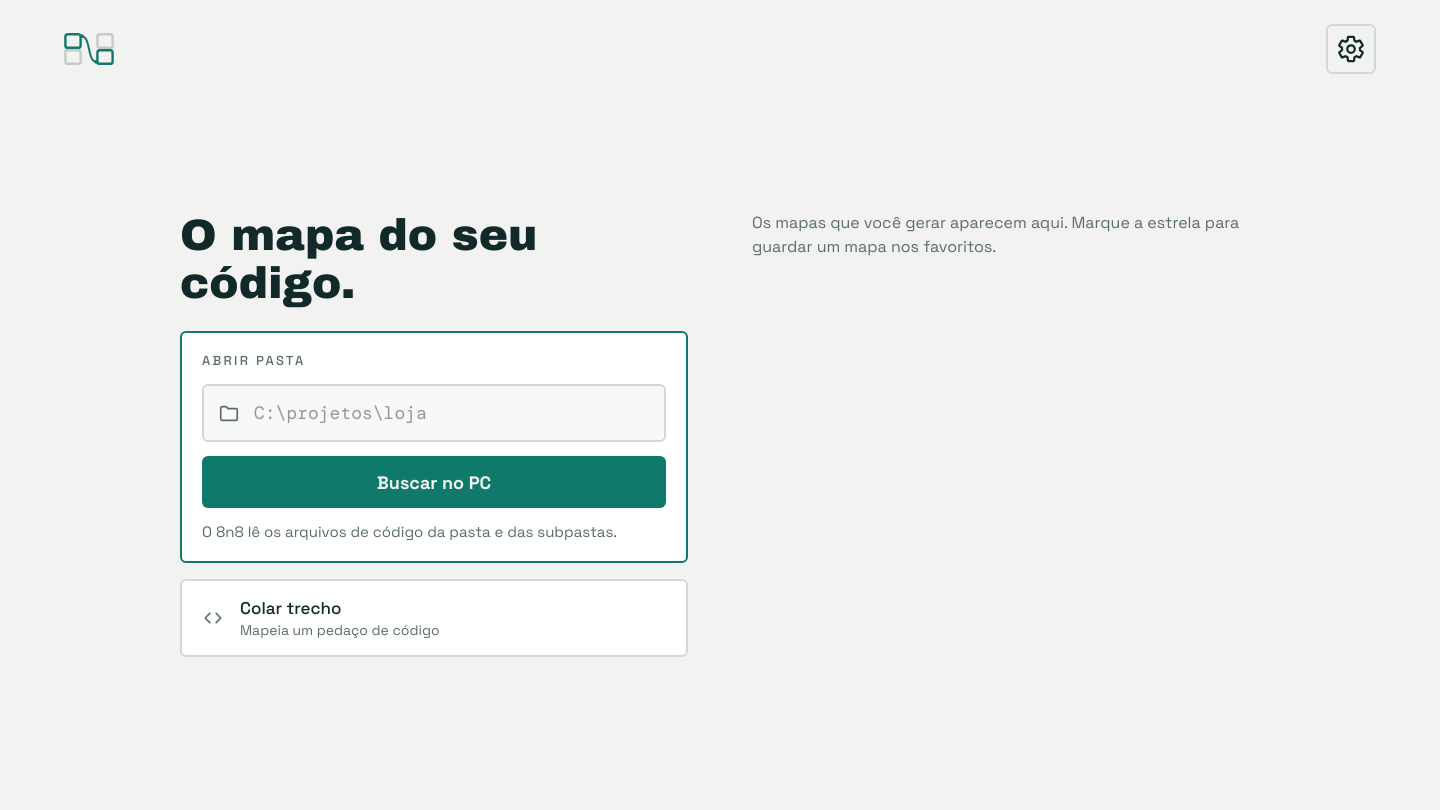
App › shows the empty message for an empty graph (CORE-07)
This screenshot has width=1440, height=810.
Click the button "Colar trecho Mapeia um pedaço de código".
click(291, 608)  # box 180,579 -> 688,657
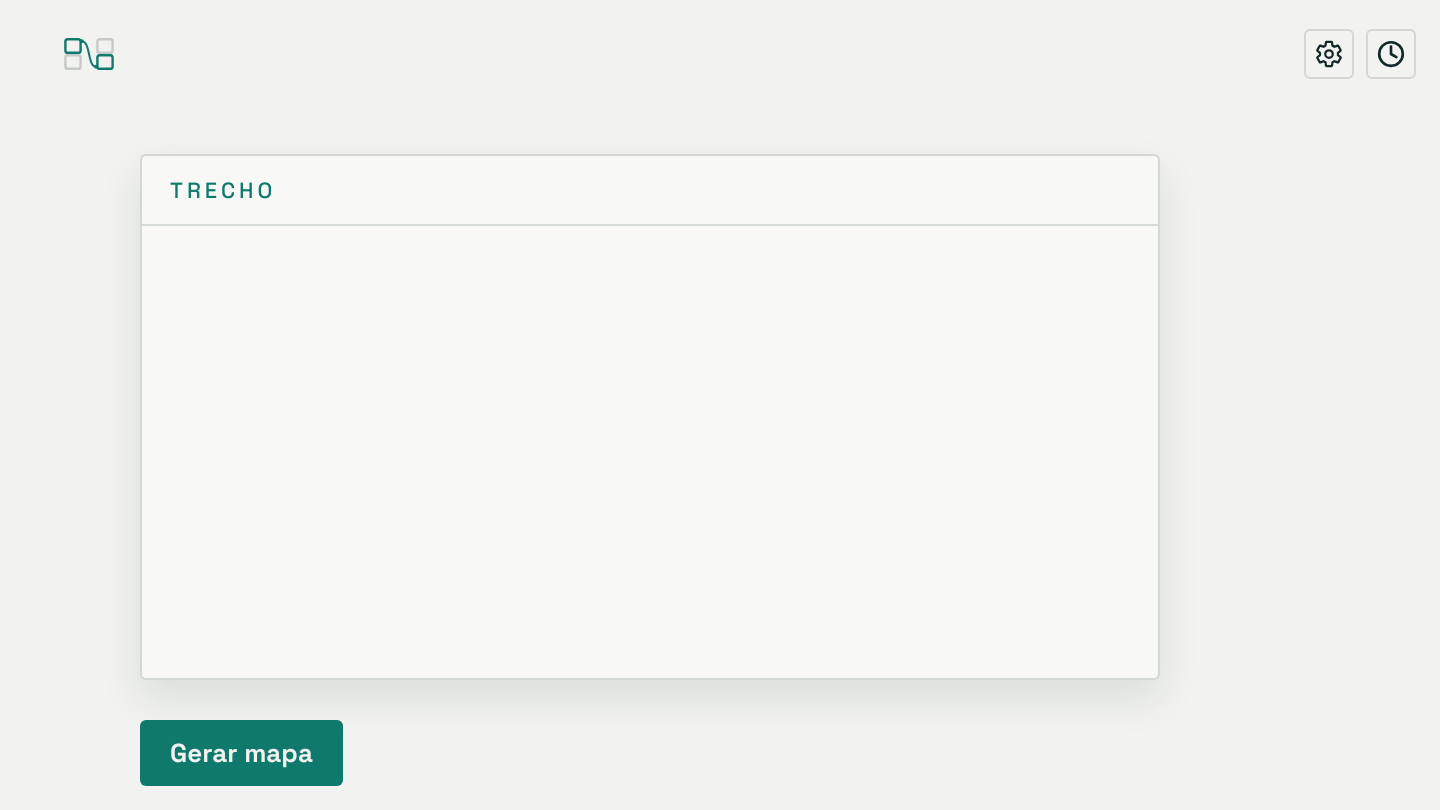
Type "# só comentário" into the text box named "Trecho de código".
click(650, 452); type("# só comentário")  # box 142,226 -> 1158,678
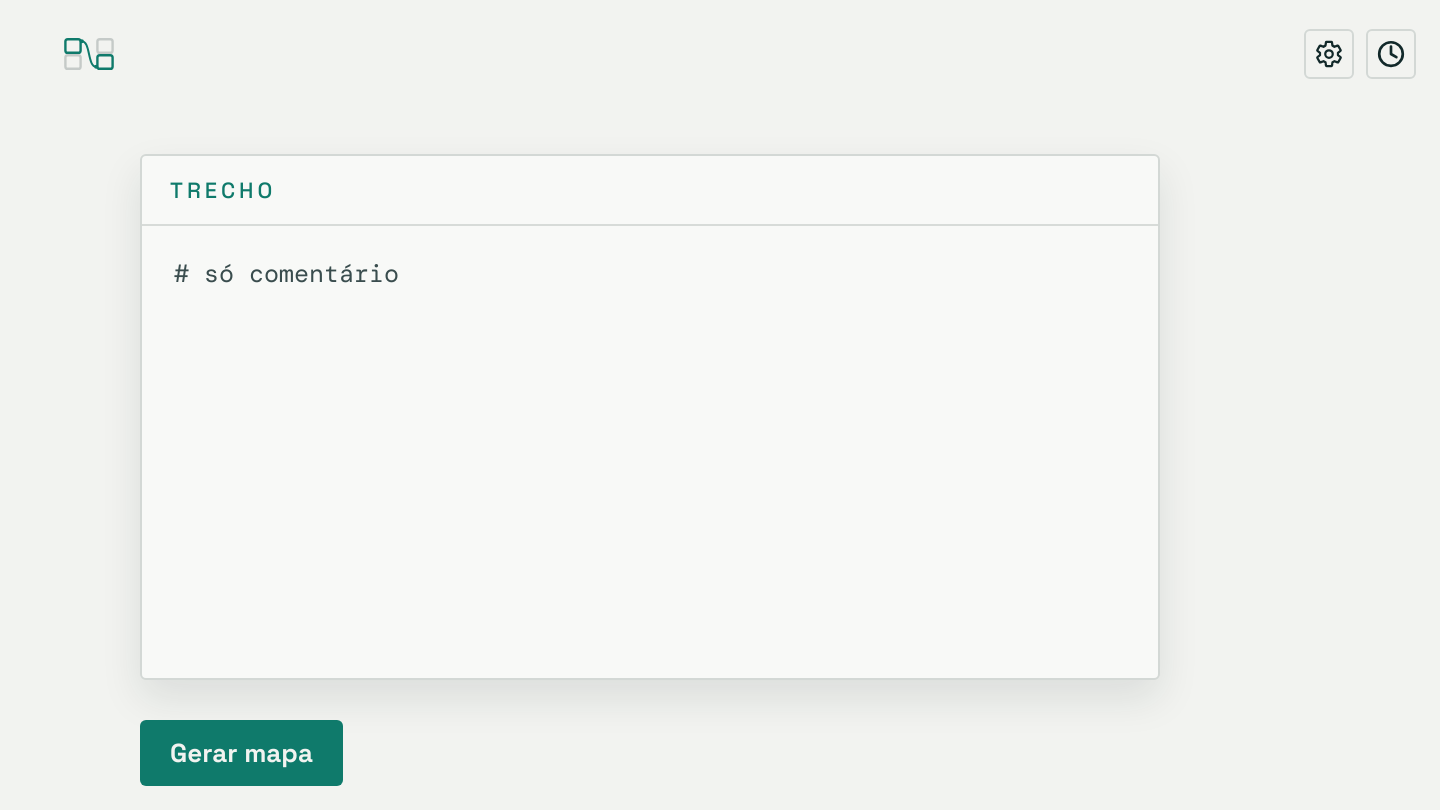
Click the button "Gerar mapa".
click(242, 753)  # box 140,720 -> 343,786
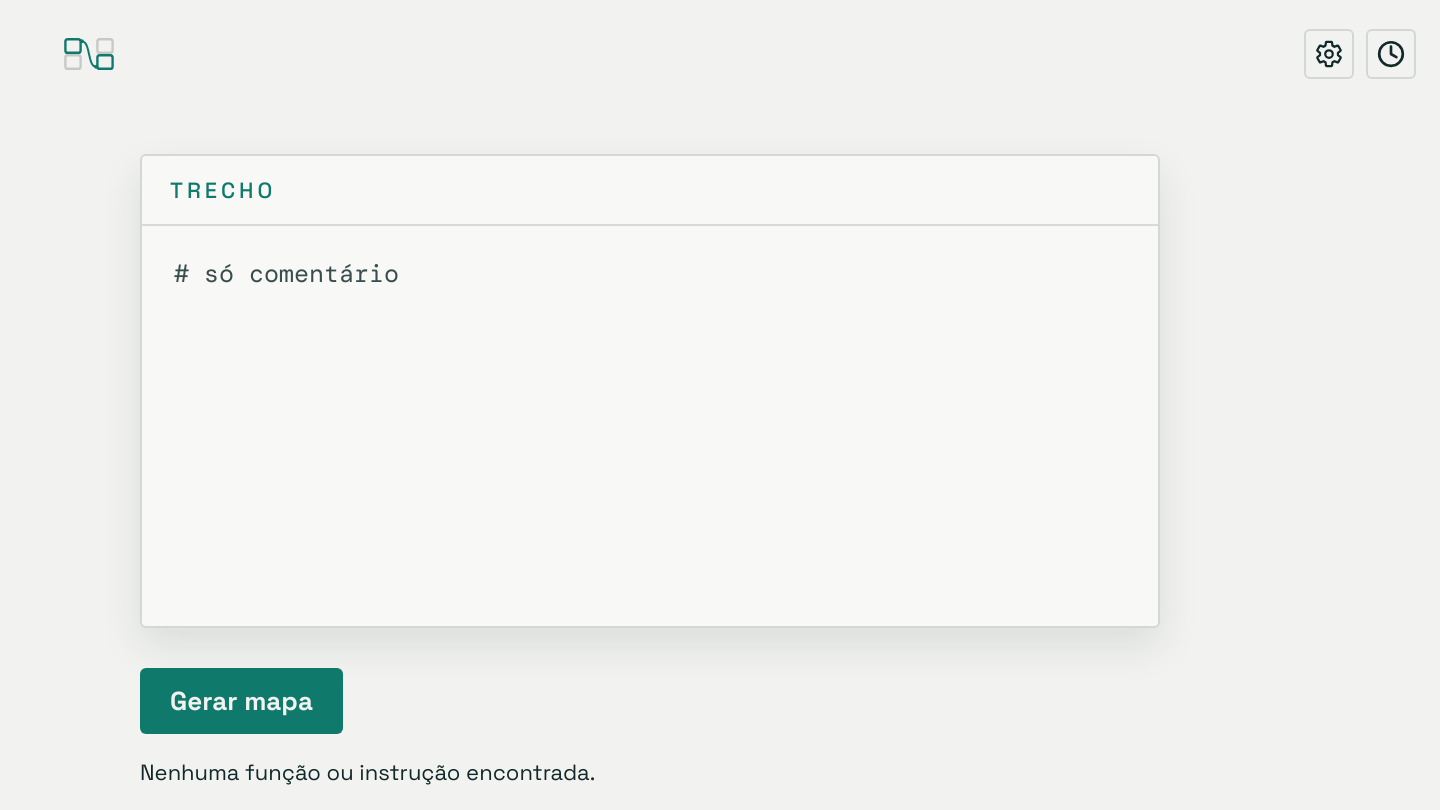
Expected: the text "Nenhuma função ou instrução encontrada." is shown, 140,758 -> 595,786
